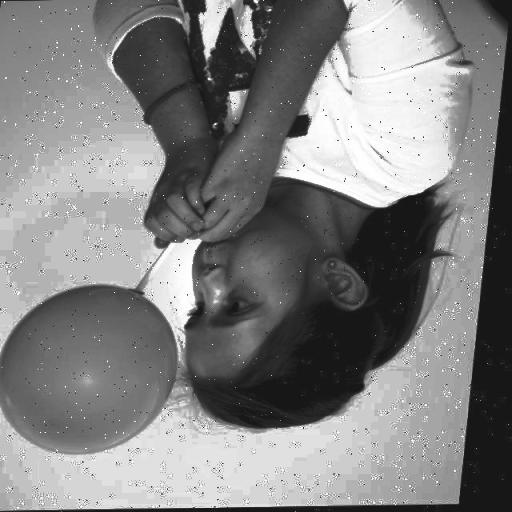balloon: (0, 284, 186, 456)
